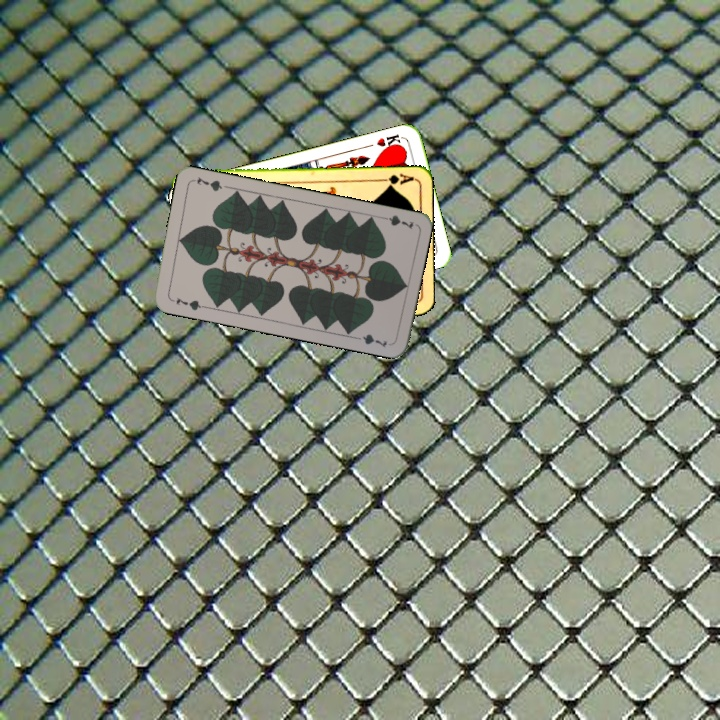G7: (376, 211, 416, 232), (167, 294, 207, 313)
GA: (376, 170, 416, 190)
HK: (373, 130, 405, 153)
